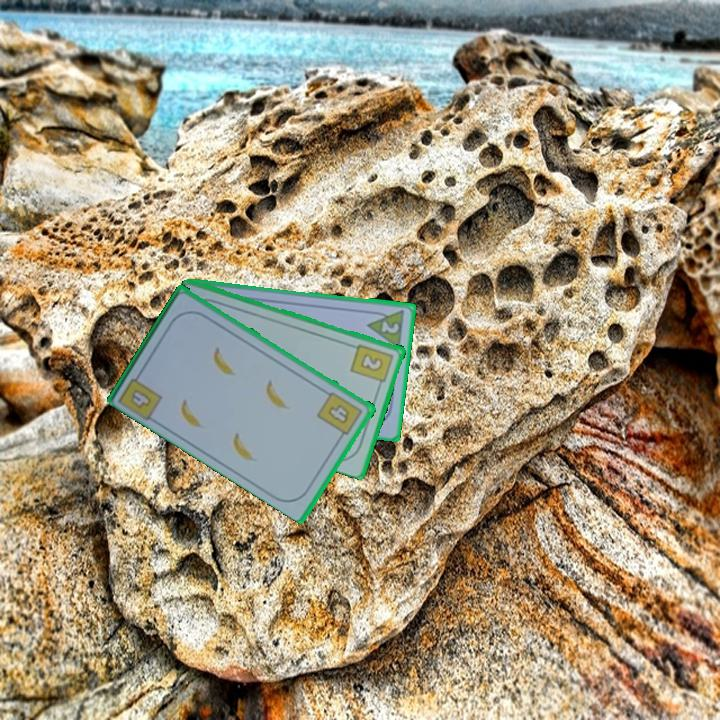2b: (348, 340, 396, 390)
2p: (364, 306, 408, 351)
4b: (314, 388, 366, 442), (116, 366, 166, 422)
